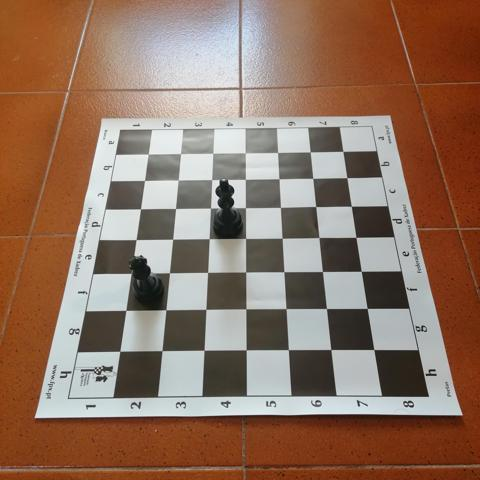xcorner: (306, 169, 322, 185), (336, 143, 352, 158), (238, 144, 253, 160), (238, 171, 254, 186), (137, 172, 153, 187), (345, 197, 360, 213), (274, 198, 289, 214), (203, 199, 218, 215), (133, 200, 148, 216), (350, 229, 366, 244), (276, 229, 291, 245), (202, 230, 217, 246), (123, 265, 139, 280), (325, 342, 341, 357), (282, 342, 297, 358), (304, 143, 319, 158), (271, 144, 286, 159), (206, 145, 221, 160), (174, 146, 189, 161), (141, 146, 156, 161), (341, 169, 356, 184), (272, 170, 287, 185), (205, 171, 220, 186), (171, 172, 186, 187), (310, 198, 325, 213), (239, 199, 254, 214), (168, 200, 183, 215), (313, 229, 328, 244), (239, 230, 254, 245), (165, 231, 180, 246), (129, 231, 144, 246), (356, 263, 371, 278), (317, 263, 332, 278), (278, 264, 293, 279), (239, 264, 254, 279), (200, 264, 215, 279), (162, 265, 177, 280), (362, 300, 377, 315), (321, 301, 336, 316), (280, 301, 295, 316), (239, 301, 254, 316), (199, 302, 214, 317), (158, 302, 173, 317), (118, 302, 133, 317), (369, 342, 384, 357), (239, 343, 254, 358), (197, 343, 212, 358), (154, 343, 169, 358), (112, 343, 127, 358)
